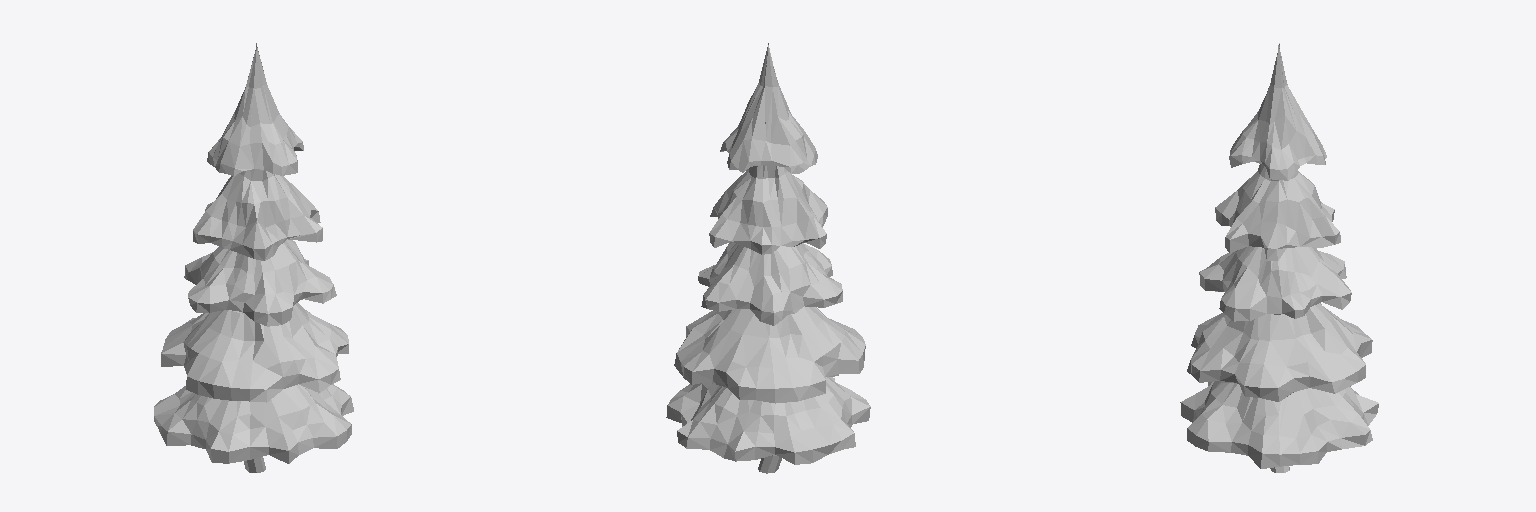
Rendered from _8_tree.obj.
The picture shows the model from 3 angles: view 1: azimuth 30°, elevation 25°; view 2: azimuth 150°, elevation 25°; view 3: azimuth 270°, elevation 25°; orthographic projection.
Visible parts, largest first — view 1: _8_tree_Cube.007; view 2: _8_tree_Cube.007; view 3: _8_tree_Cube.007.
Boxes of the visible parts, <box> form: _8_tree_Cube.007: <box>154,43,353,472</box>; _8_tree_Cube.007: <box>666,43,870,473</box>; _8_tree_Cube.007: <box>1180,43,1378,472</box>.
Bounding box in the file's own units: 0.9411 × 2.16 × 0.9146.